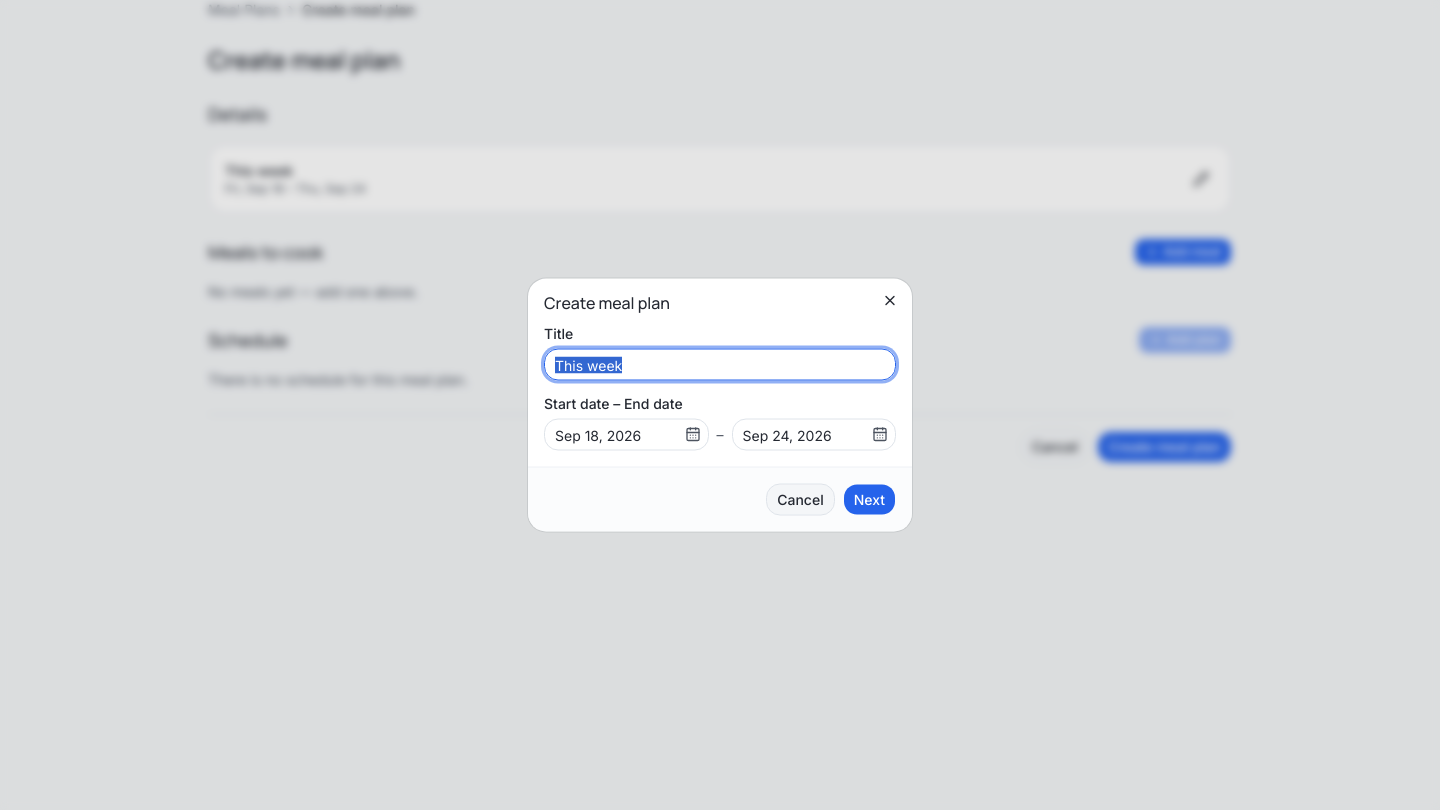
Test: MealPlanEditor Add-meal picker › defaults to Active-stage Recipes only
Click the button "Next" at (869, 500), box [843, 484, 896, 516]
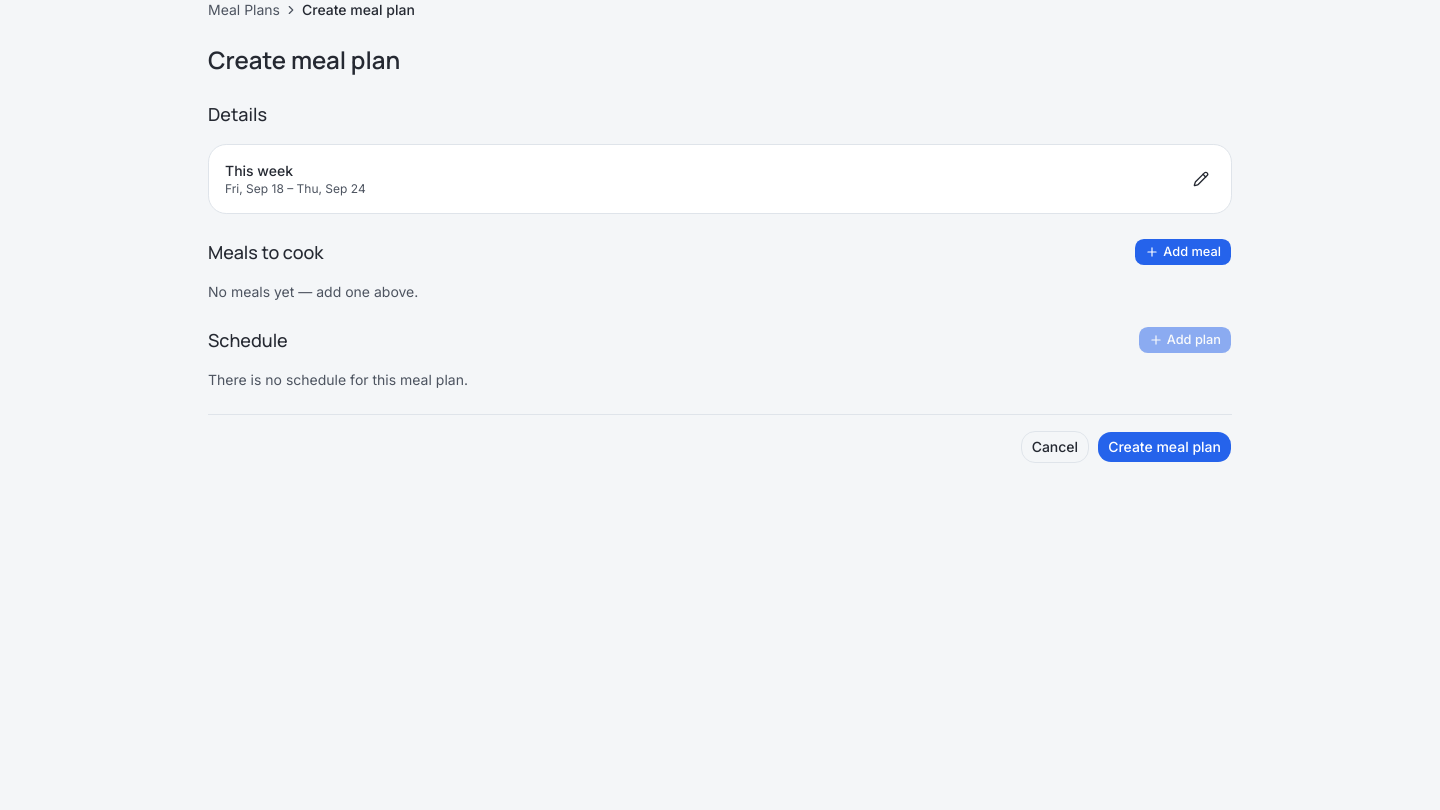
Click the button "Add meal" at (1183, 252), box [1134, 238, 1232, 266]
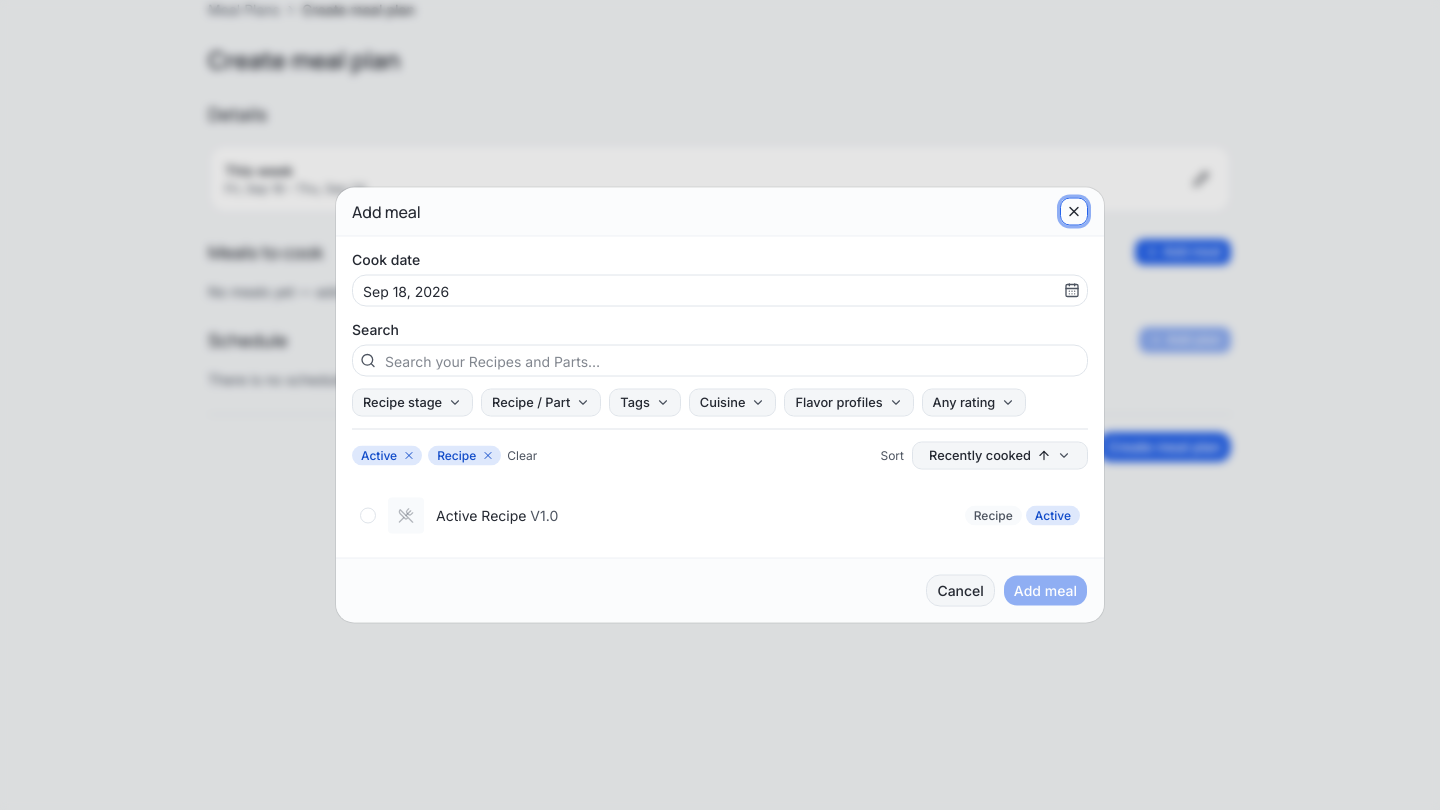
Check: the text "Active Recipe" is shown, box [436, 506, 526, 524]
